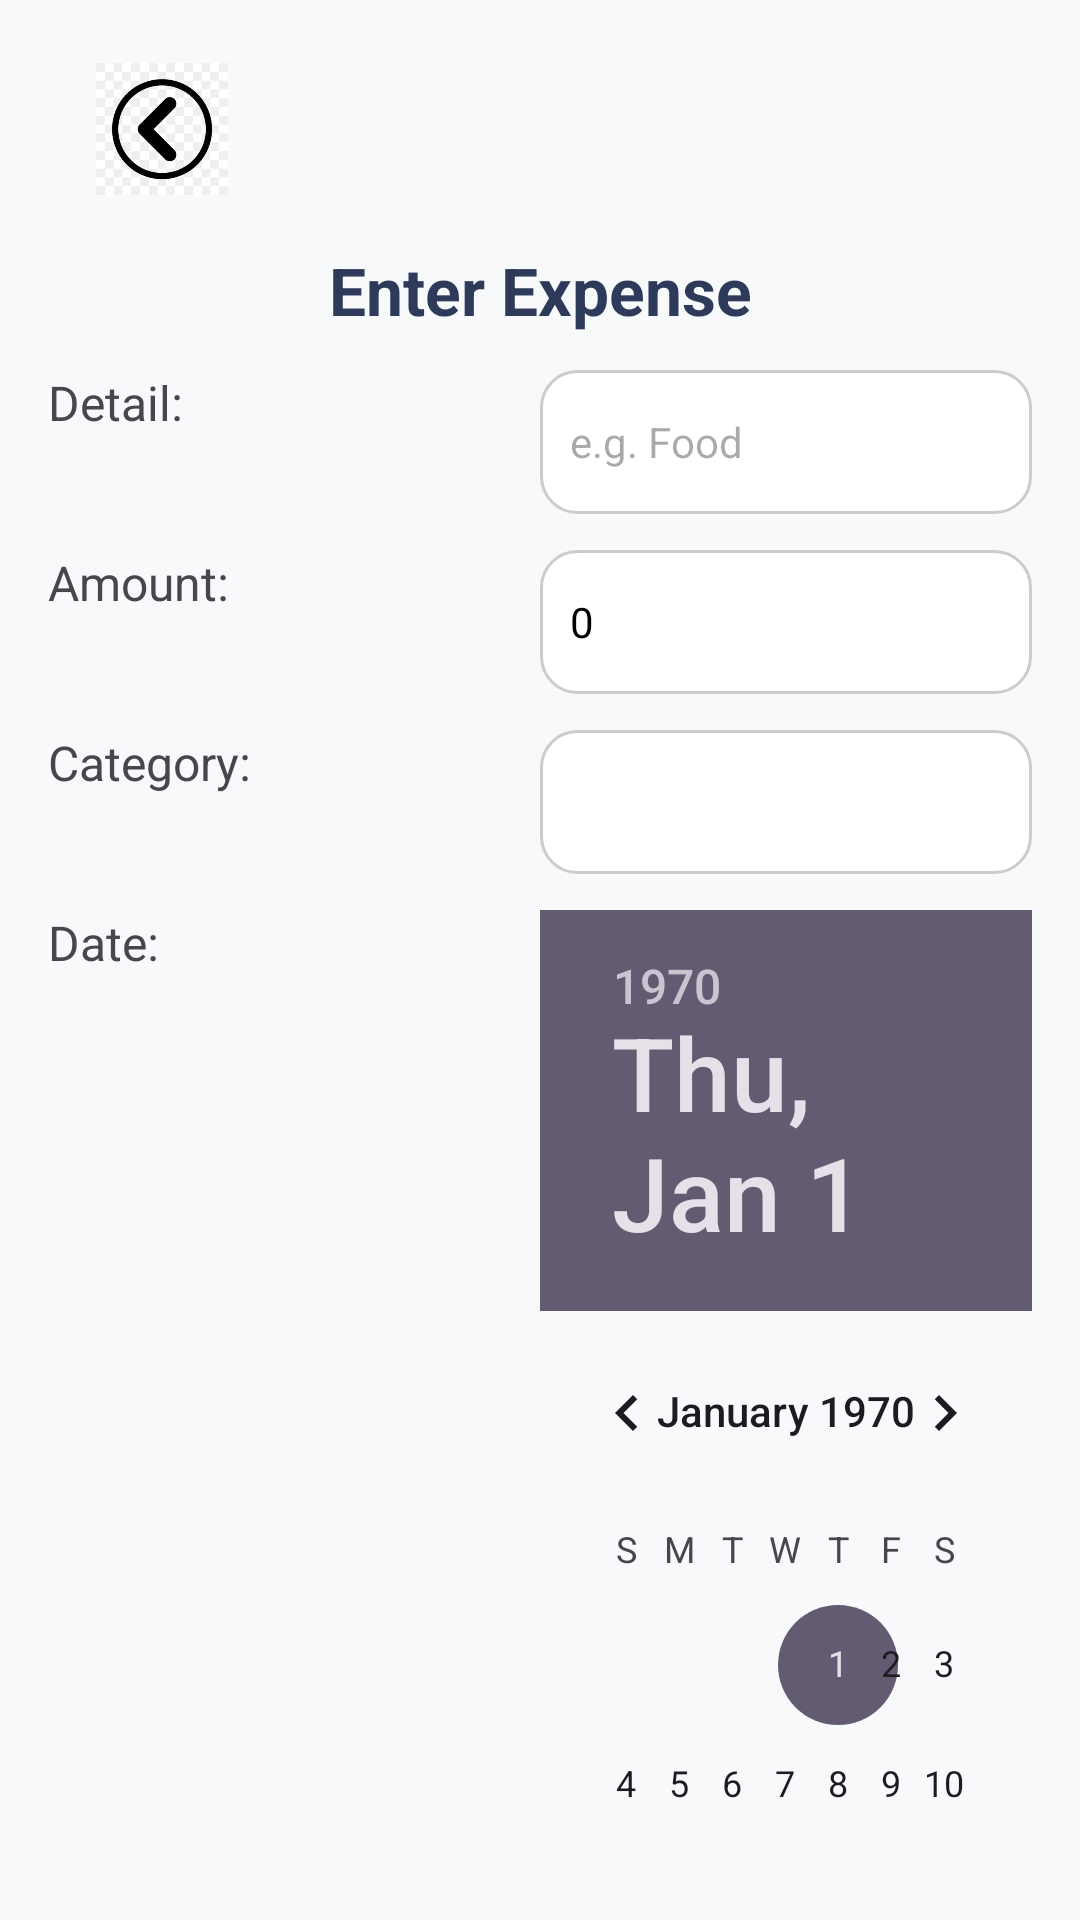

Icon click points for this 1080px×1920px phone screenshot, format [x,y]:
back: [162,129]
